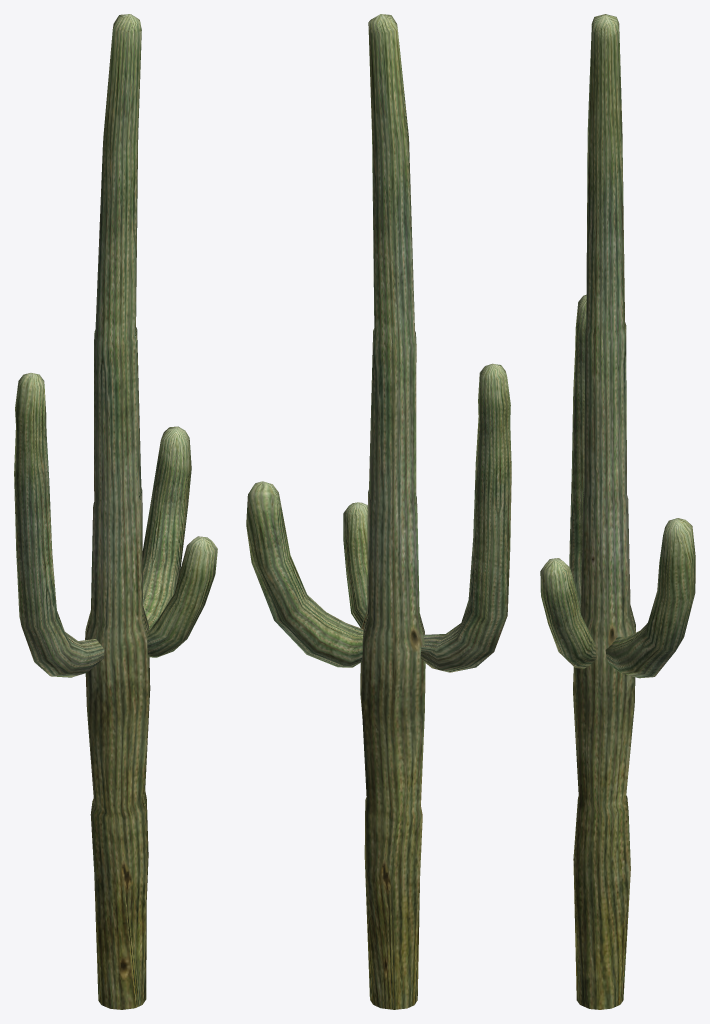
The model's file is DesertPlant01A.FBX.
3 renders of one model, left to right at view 1: azimuth 30°, elevation 25°; view 2: azimuth 150°, elevation 25°; view 3: azimuth 270°, elevation 25°, orthographic.
Visible parts, largest first — view 1: DesertPlant01A; view 2: DesertPlant01A; view 3: DesertPlant01A.
Part boxes in pixels (x1=…): DesertPlant01A: x1=14, y1=14, x2=217, y2=1009; DesertPlant01A: x1=246, y1=14, x2=511, y2=1009; DesertPlant01A: x1=540, y1=14, x2=695, y2=1009.
Size of the model in its own units: 7.05 by 30.43 by 4.33.
1 material, 1 textured.
